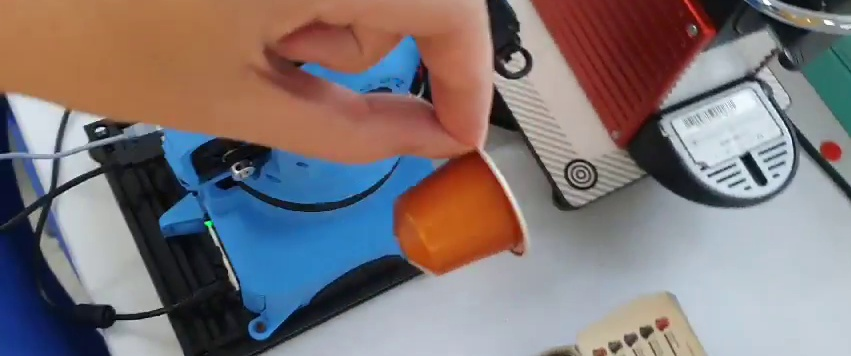capsule_5: (389, 141, 534, 279)
